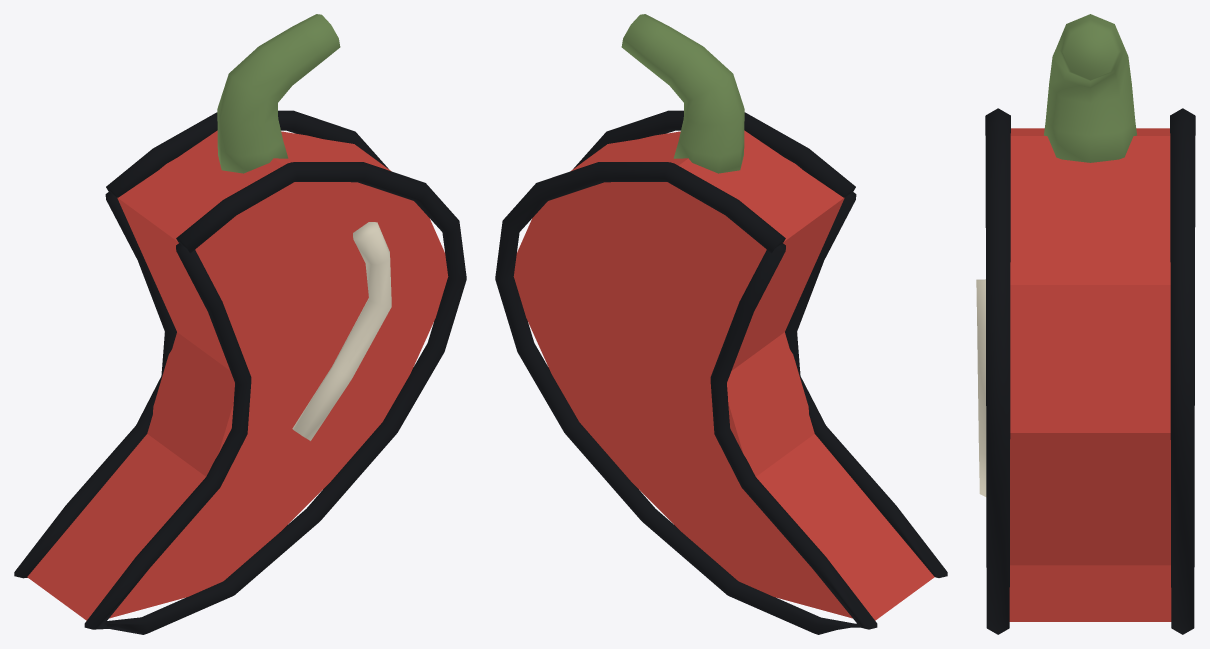
Rendered from rapid.glb.
3 views of the same model, side by side, from view 1: azimuth 30°, elevation 25°; view 2: azimuth 150°, elevation 25°; view 3: azimuth 270°, elevation 25° (orthographic). The views are drawn at different scales.
Parts seen in each view (by area): view 1: rapid_Game; view 2: rapid_Game; view 3: rapid_Game.
Boxes of the visible parts, bbox=[...] form: rapid_Game: bbox=[14, 14, 466, 634]; rapid_Game: bbox=[495, 14, 947, 634]; rapid_Game: bbox=[976, 14, 1195, 634].
Size of the model in its own units: 1.02 by 1.38 by 0.3848.
